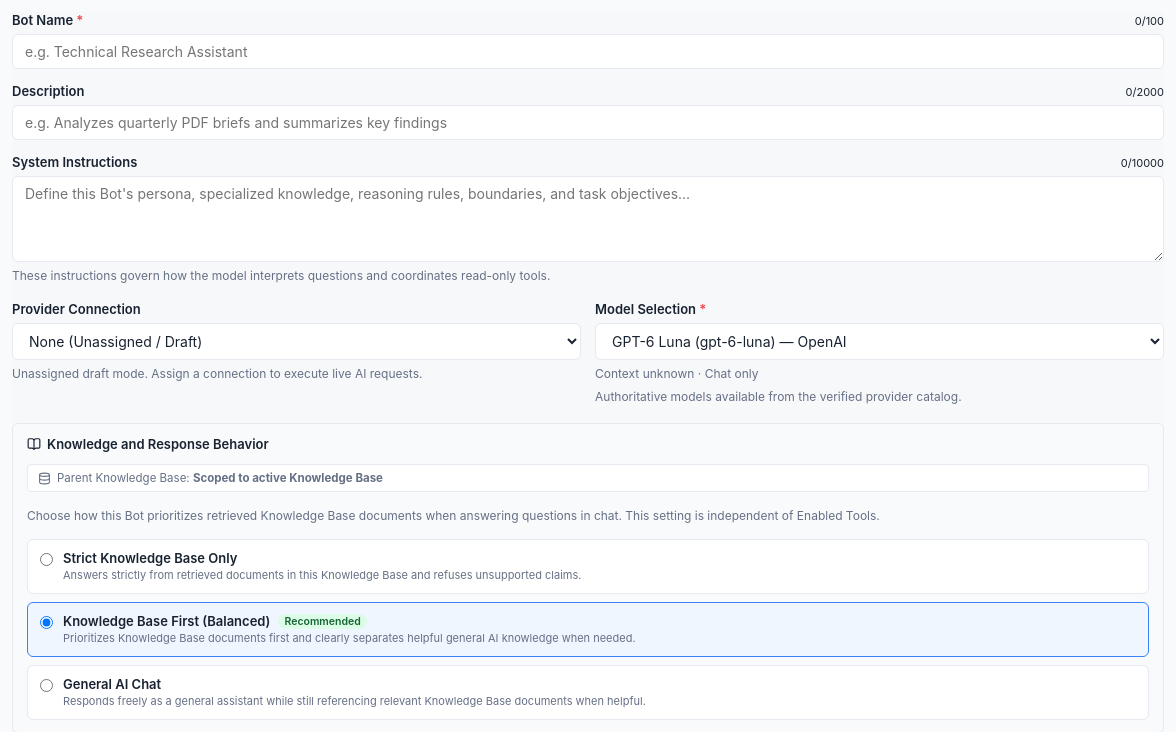
Renderer: BotConfigurationForm (Phase 6 Step 6.5) › 5. filters available models when selecting a provider connection
The width and height of the screenshot is (1176, 732).
Note: Select Anthropic connection
Select "Claude Workspace Key (Anthropic)" in the dropdown with test id "bot-provider-select" at (296, 341), box [12,323,581,360]
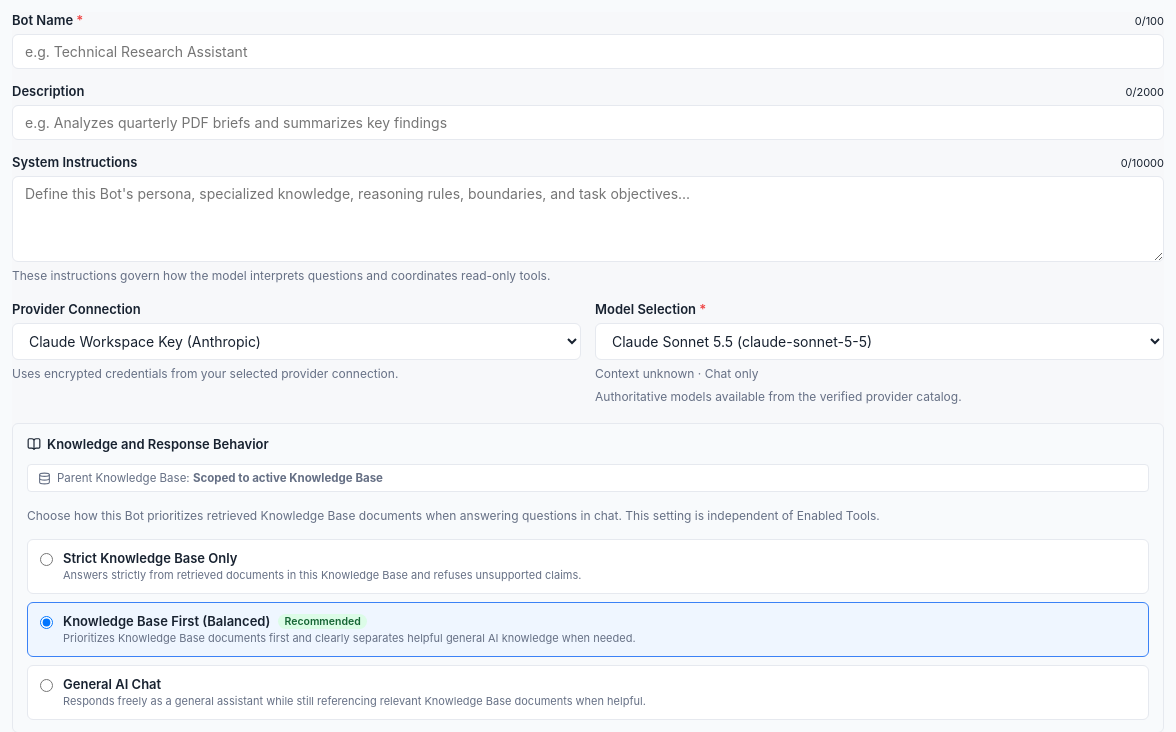
expect the text "GPT-6 Luna" is not shown: met
expect the dropdown with test id "bot-model-select" shows "Claude Sonnet 5.5 (claude-sonnet-5-5)": met, box [595,323,1164,360]
